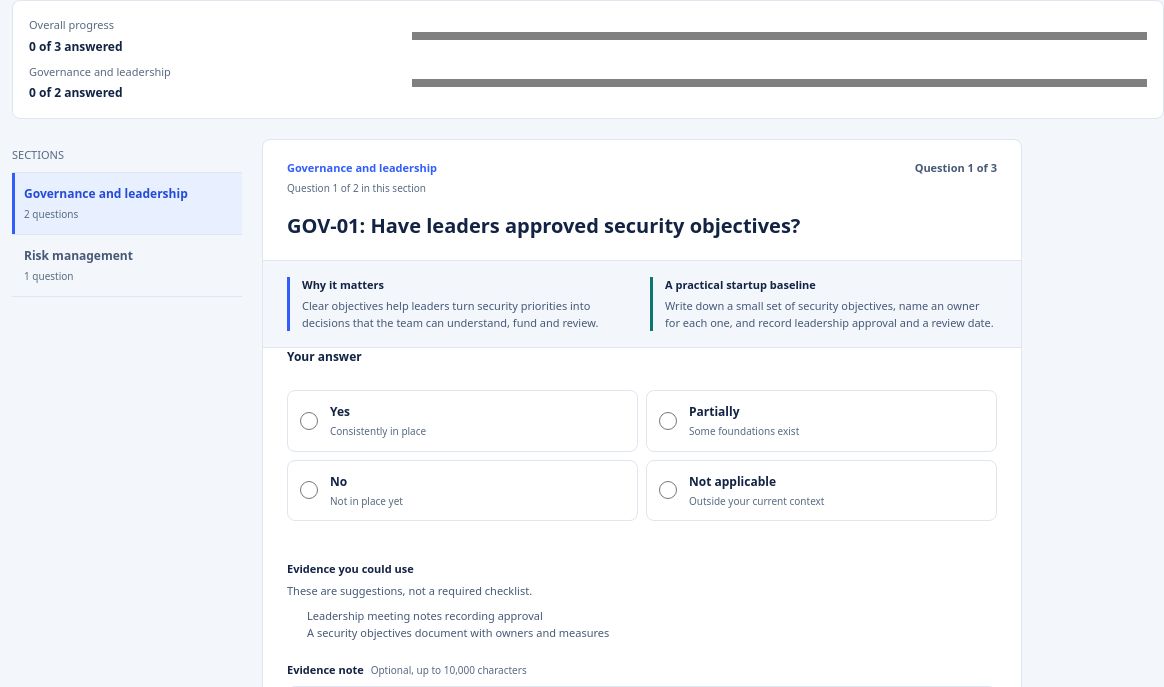
Test case: AssessmentResponseList guided flow › explains the consequence of choosing Yes
Click the radio button labelled "Yes": (309, 421) [300,412,318,430]
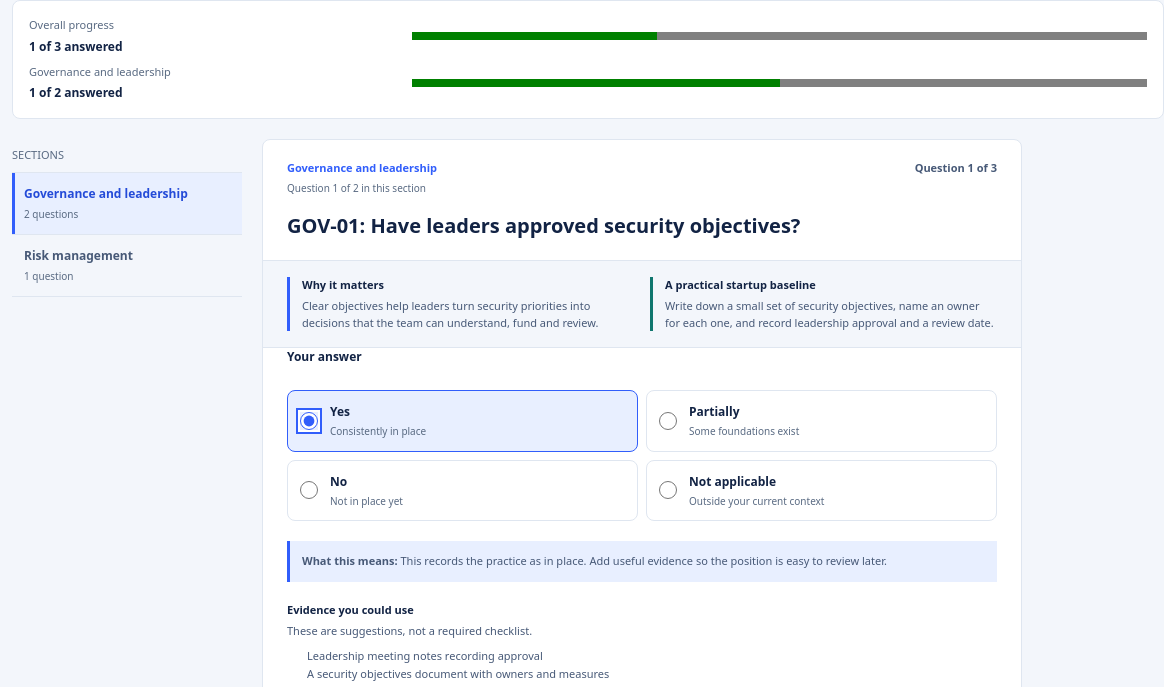
Expected: the heading "GOV-01: Have leaders approved security objectives?" is shown, [287,212,800,238]
Now the message named "Answer consequence" shows "in place", box [400,553,887,568]
